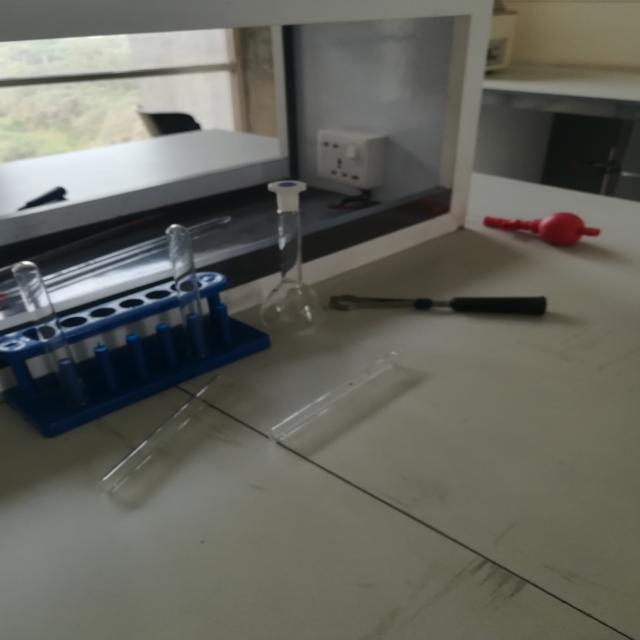TestTube_Holder: (325, 263, 562, 335)
Test_Tube: (84, 360, 246, 520), (251, 337, 415, 475), (0, 234, 117, 417), (119, 202, 234, 376)
Volumetric_Flask: (252, 170, 330, 341)
Volumetric_Pipet: (448, 176, 628, 270)
